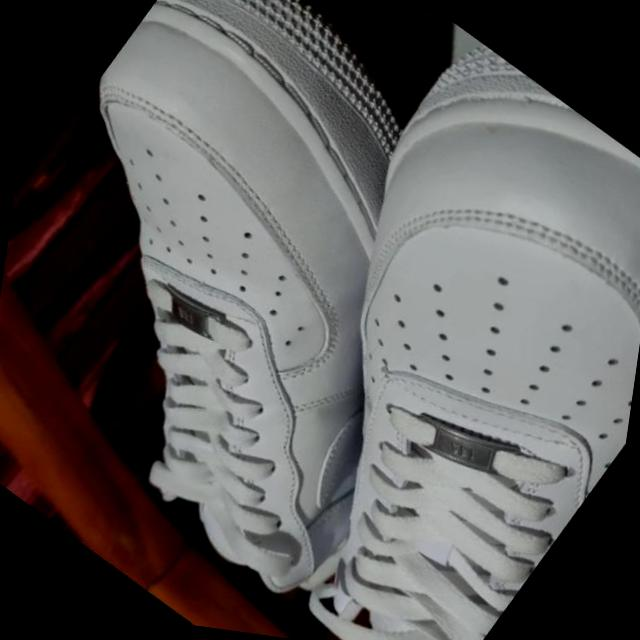nike_original_airforce: (0, 0, 609, 640), (125, 0, 640, 640)
